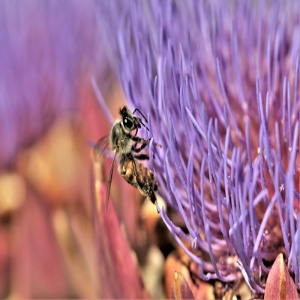bee: (92, 105, 163, 224)
